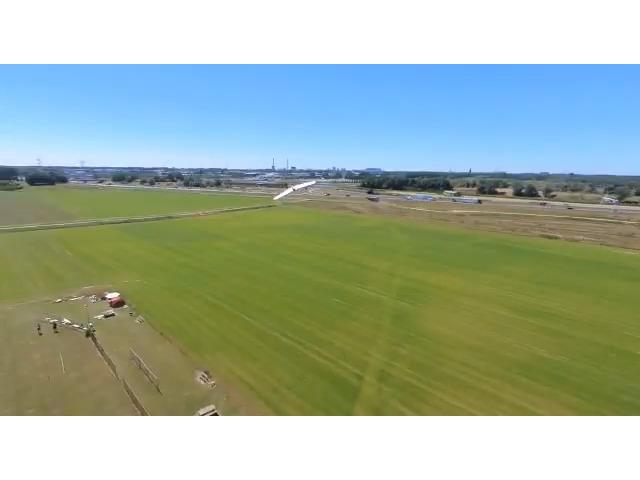Anti-Drone: (266, 177, 334, 203)
